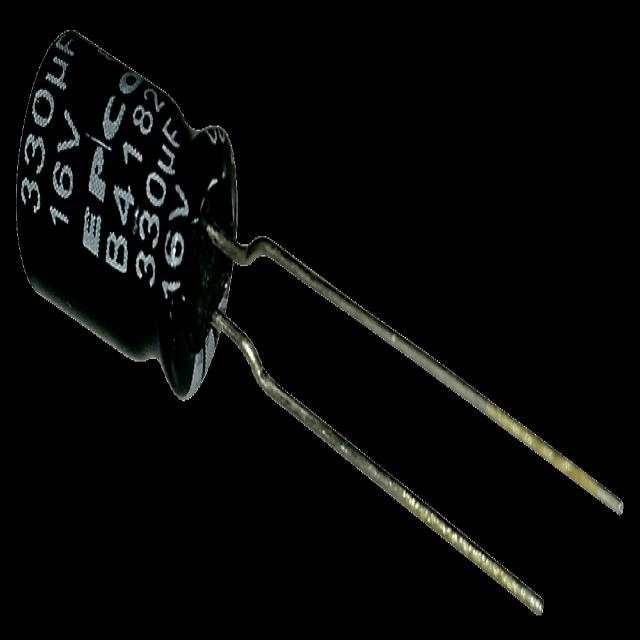Capacitor: (13, 29, 637, 639)
